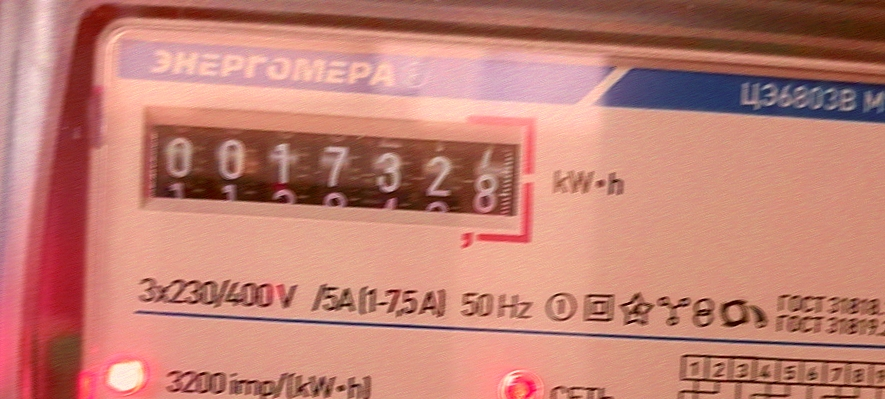0: (162, 133, 197, 178), (216, 133, 248, 180)
1: (270, 137, 294, 184)
2: (423, 151, 454, 197)
3: (374, 148, 403, 193)
7: (320, 141, 350, 189)
8: (471, 169, 499, 213)
screen: (128, 97, 545, 247)
